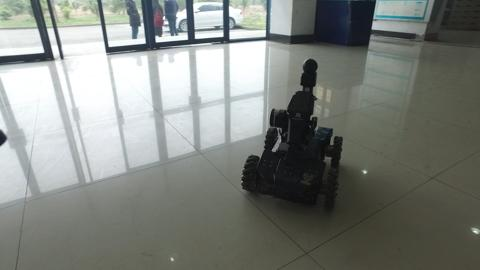car: (161, 1, 245, 33)
chariot: (240, 56, 344, 211)
